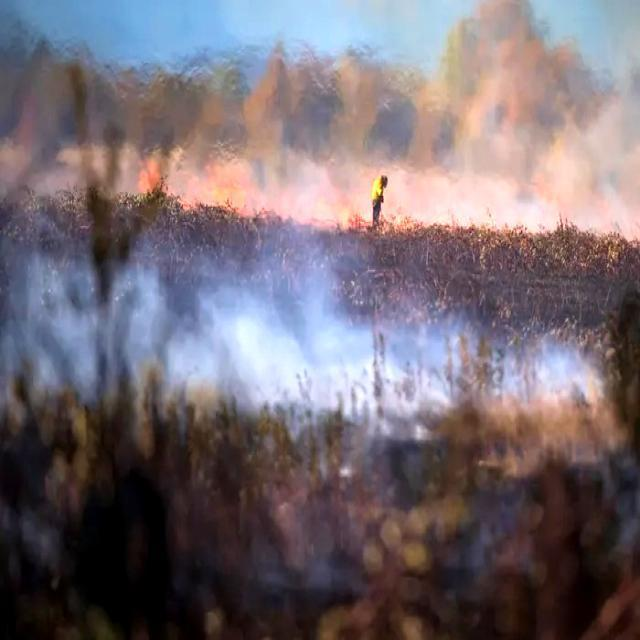Smoke: (0, 0, 628, 245), (0, 234, 602, 452)
